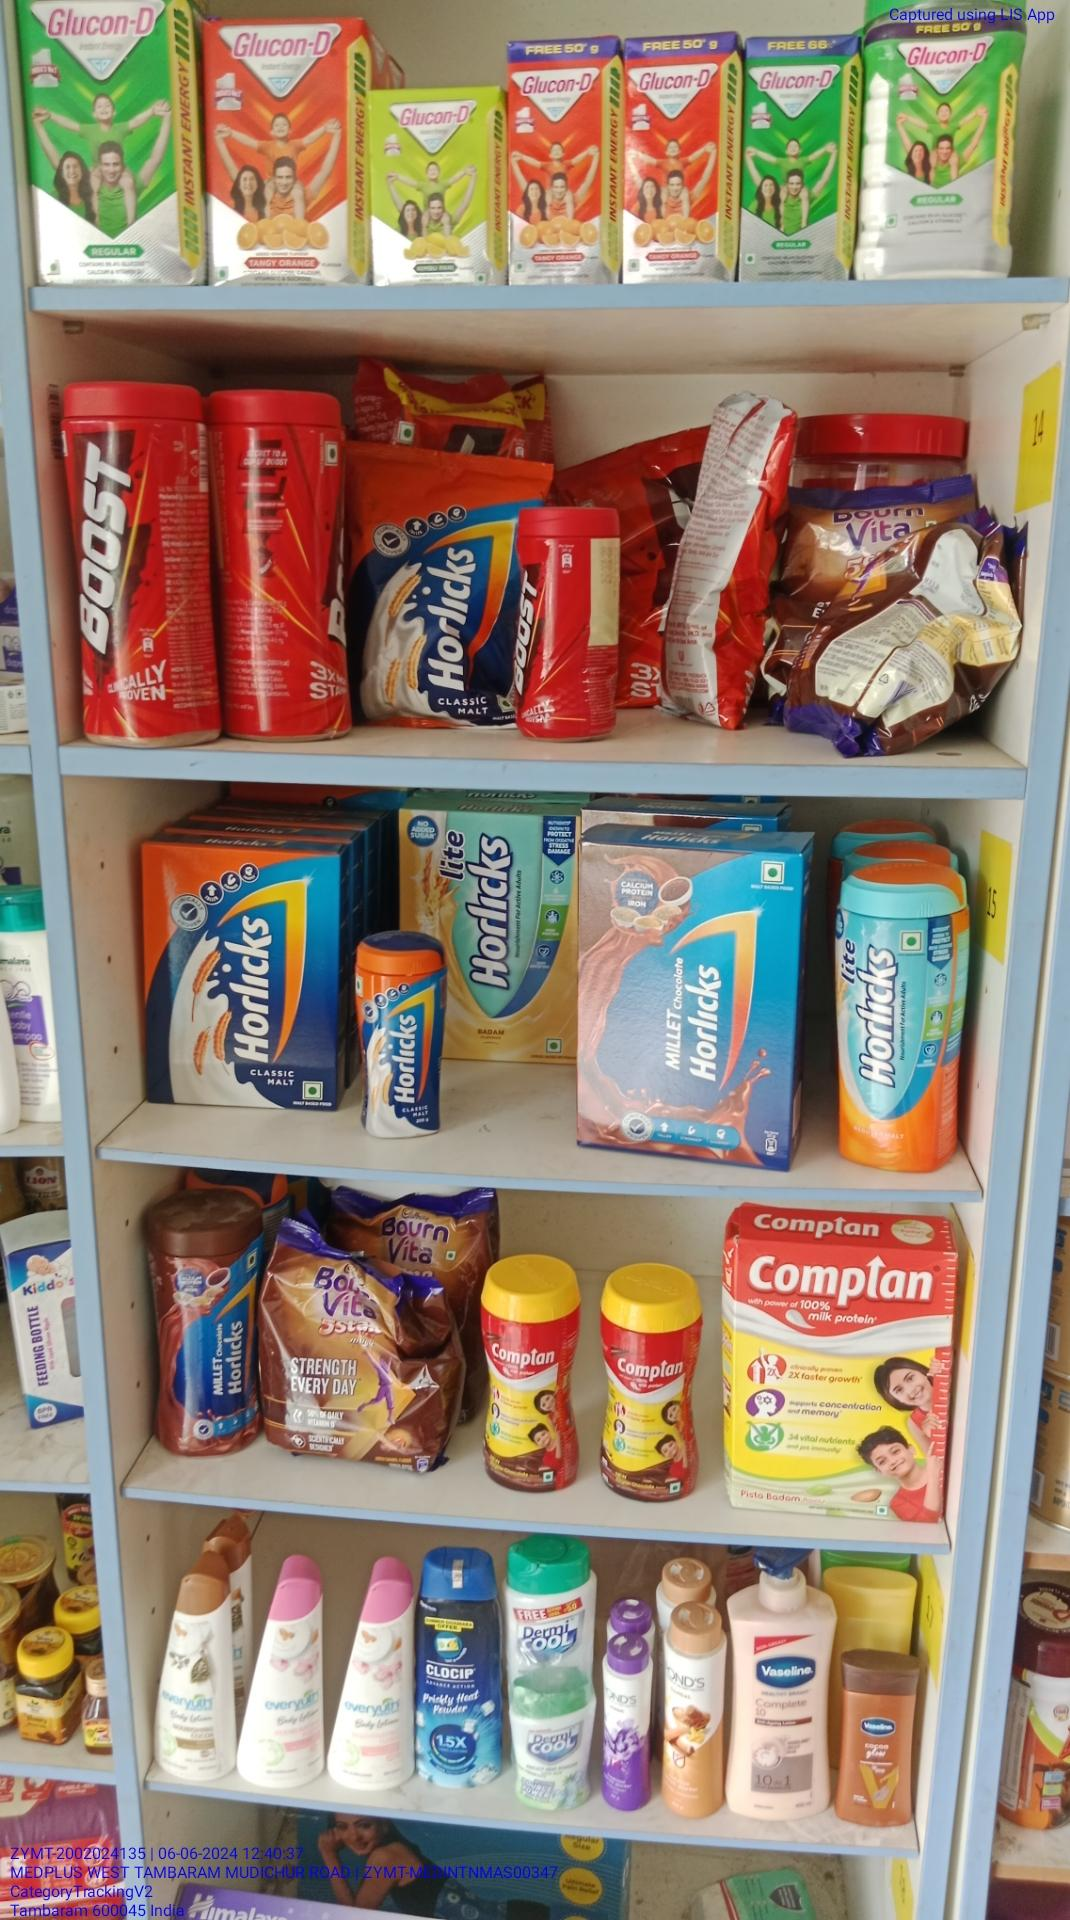BOURN_VITA_FIVE_STAR_MAGIC_500_G_POUCH: (264, 1222, 449, 1473)
COMPLAN_CHOCOLATE_200_GMS_JAR: (600, 1291, 704, 1508), (477, 1281, 578, 1492)
COMPLAN_PISTA_BADAM_500_GMS_PACK: (734, 1233, 946, 1515)
HORLICKS_LITE_REGULAR_MALT_500_GM_JAR: (834, 879, 971, 1178)
HORLICK_CLASSIC_MALT_200_G_JAR: (354, 941, 447, 1143)
